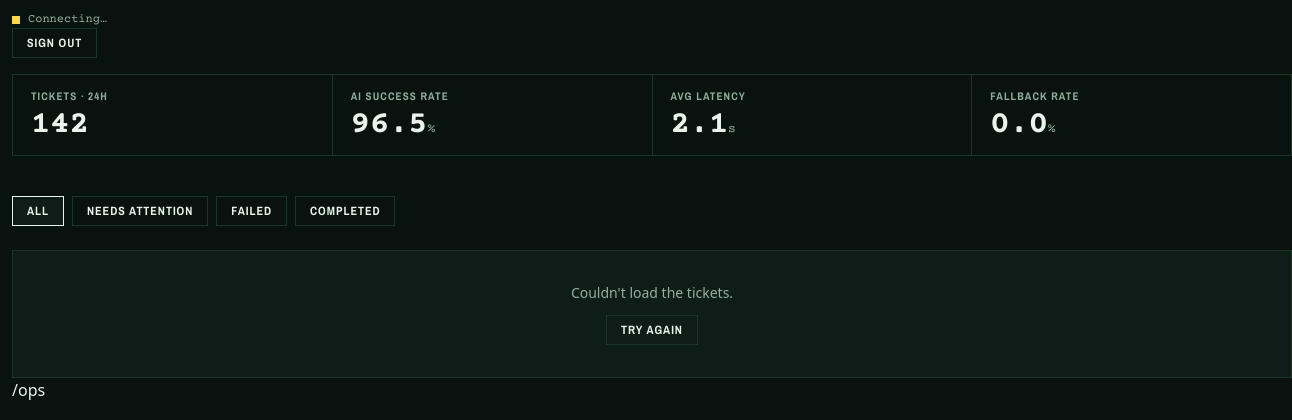
Test: the ticket table › offers a retry when the list cannot load
Click the button "Try again" at x=652, y=330, box 606,315 -> 698,345
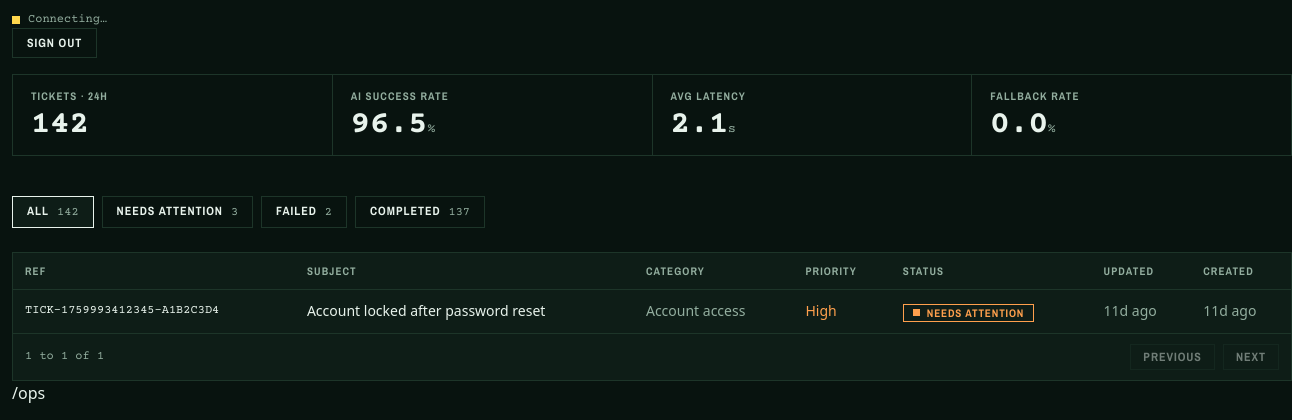
Expected: the table is shown, 13,253 -> 1291,332
